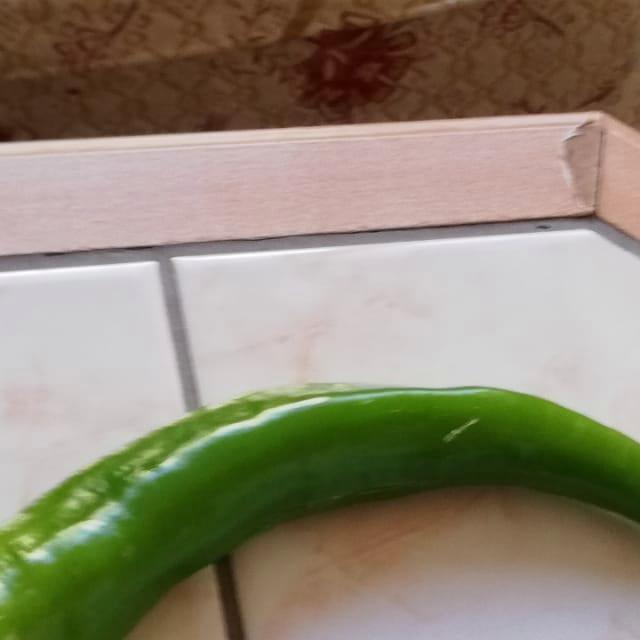chili_pepper: (0, 339, 640, 640)
